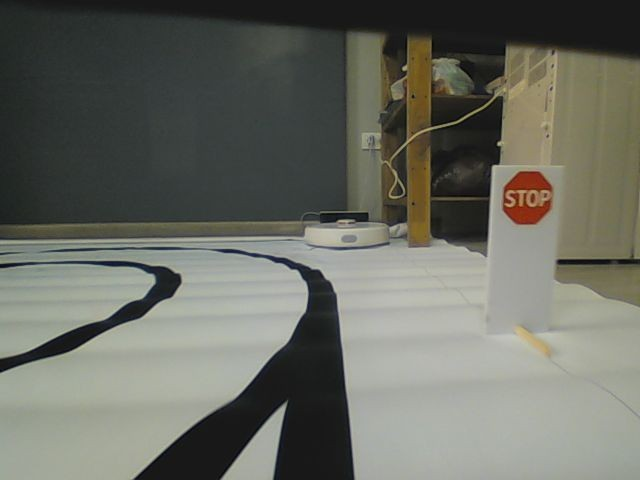Stop: (500, 169, 555, 228)
